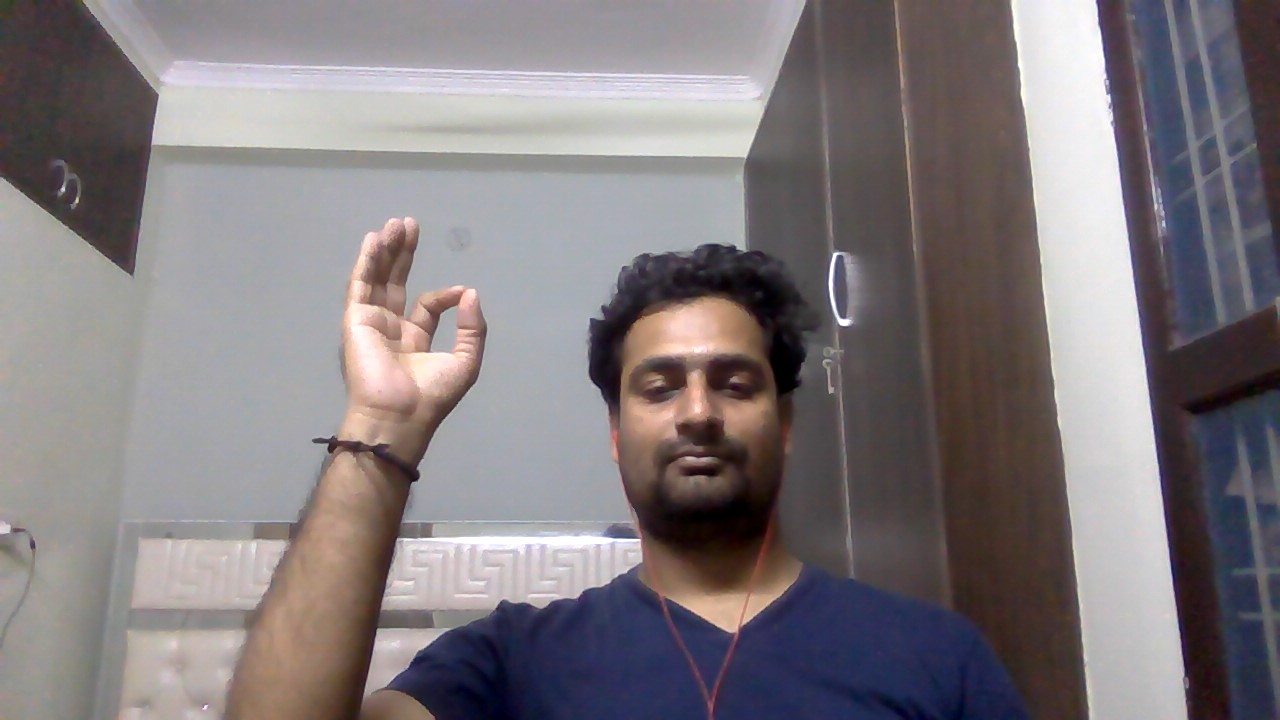Copy: (336, 214, 500, 449)
